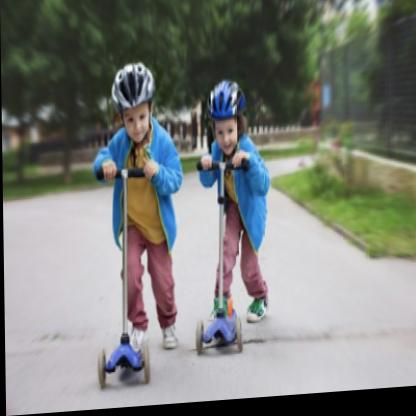With Helmet: (104, 61, 159, 147), (201, 82, 251, 158)
